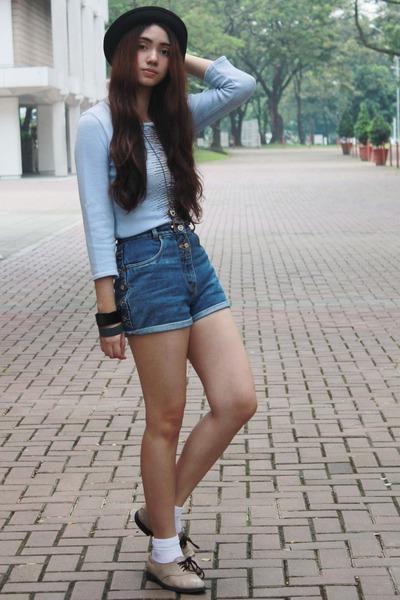Shorts: (106, 218, 235, 338)
long sleeve shirt: (72, 55, 263, 283)
